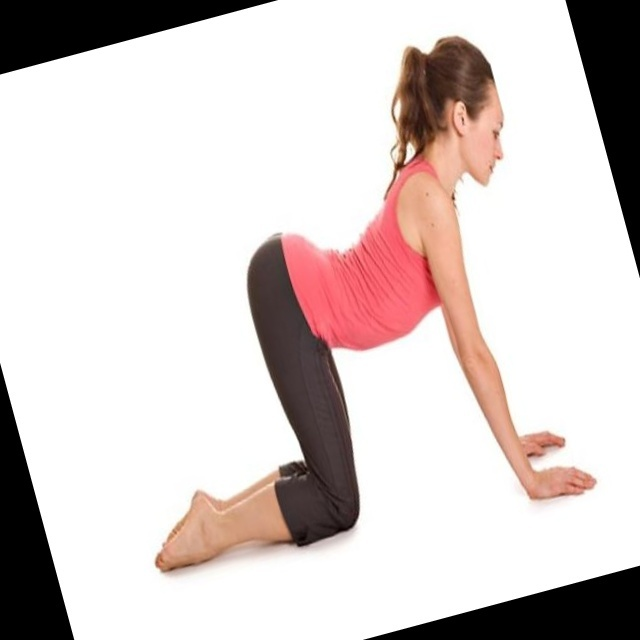Cow_Pose: (154, 36, 599, 573)
